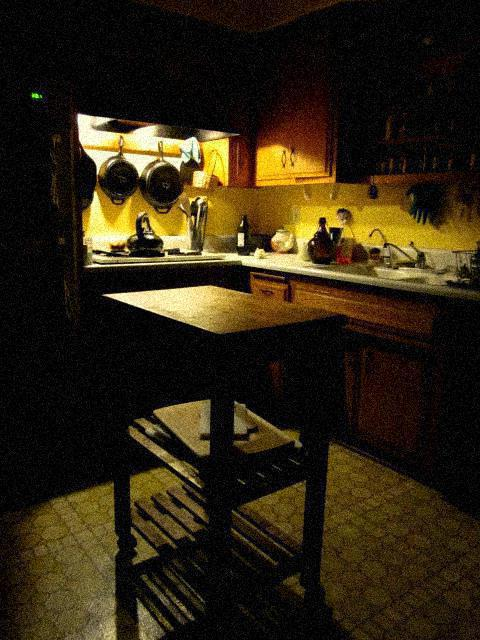Lavaplatos: (318, 225, 452, 306)
